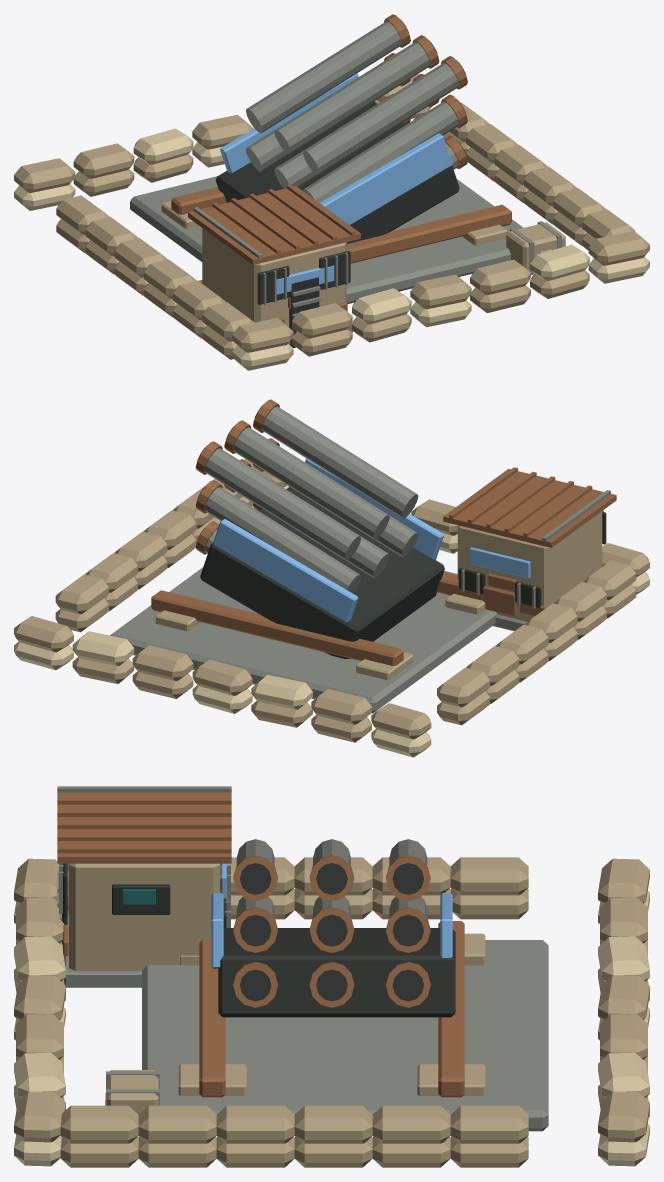
File: launch_site.glb
3 renders of one model, top to bottom at view 1: azimuth 30°, elevation 25°; view 2: azimuth 150°, elevation 25°; view 3: azimuth 270°, elevation 25°, orthographic. The views are drawn at different scales.
Visible parts, largest first — view 1: launch_site; view 2: launch_site; view 3: launch_site.
Boxes of the visible parts, x1=… form: launch_site: x1=14, y1=14, x2=649, y2=370; launch_site: x1=14, y1=399, x2=649, y2=757; launch_site: x1=14, y1=786, x2=649, y2=1167.
Size of the model in its own units: 3.8 by 1.61 by 3.8.
